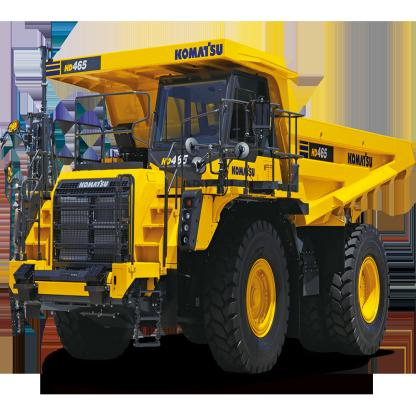dump_truck: (7, 31, 415, 371)
